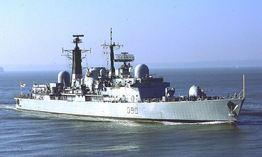warship: (13, 27, 248, 121)
